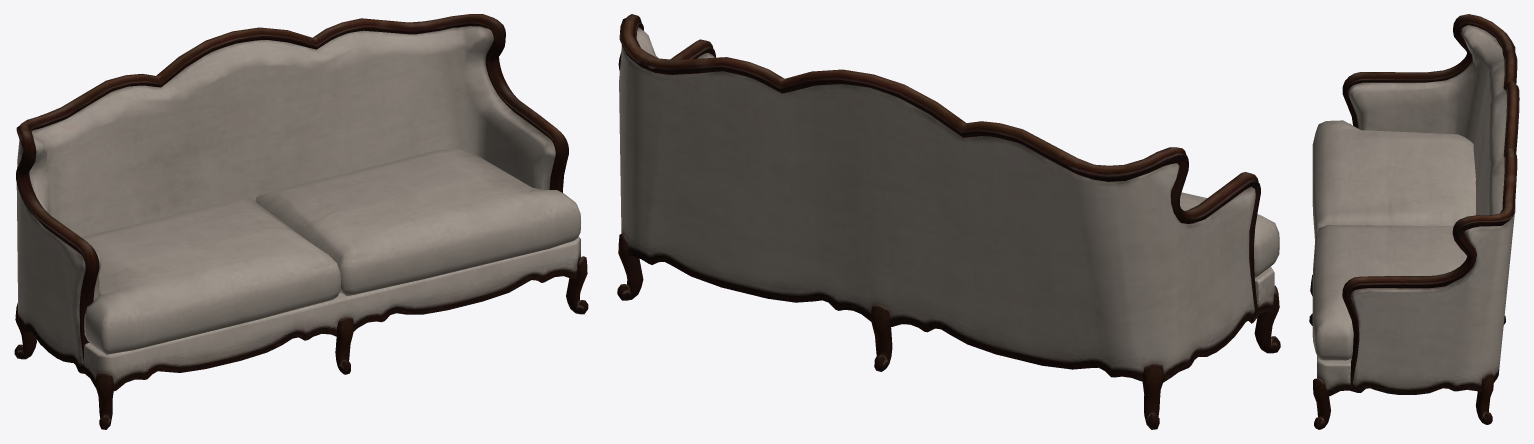
The picture shows the model from 3 angles, left to right: view 1: azimuth 30°, elevation 25°; view 2: azimuth 150°, elevation 25°; view 3: azimuth 270°, elevation 25°; orthographic projection. The views are drawn at different scales.
Visible parts, largest first — view 1: Sofa_01; view 2: Sofa_01; view 3: Sofa_01.
Boxes of the visible parts, x1=… form: Sofa_01: x1=14, y1=14, x2=588, y2=429; Sofa_01: x1=617, y1=14, x2=1280, y2=429; Sofa_01: x1=1309, y1=14, x2=1519, y2=429.
Bounding box in the file's own units: 1.57 × 0.7965 × 0.658.
Materials: 1 (1 with a texture image).
